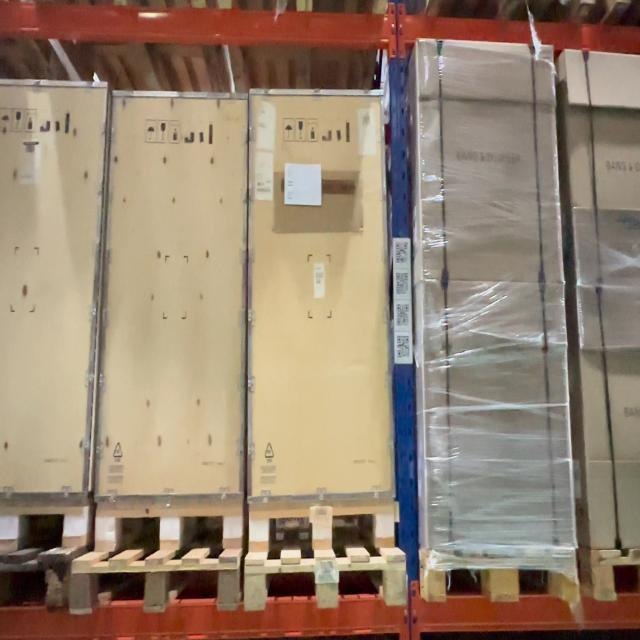box: (250, 91, 383, 497), (109, 95, 243, 497), (424, 286, 564, 550), (423, 48, 552, 278)
